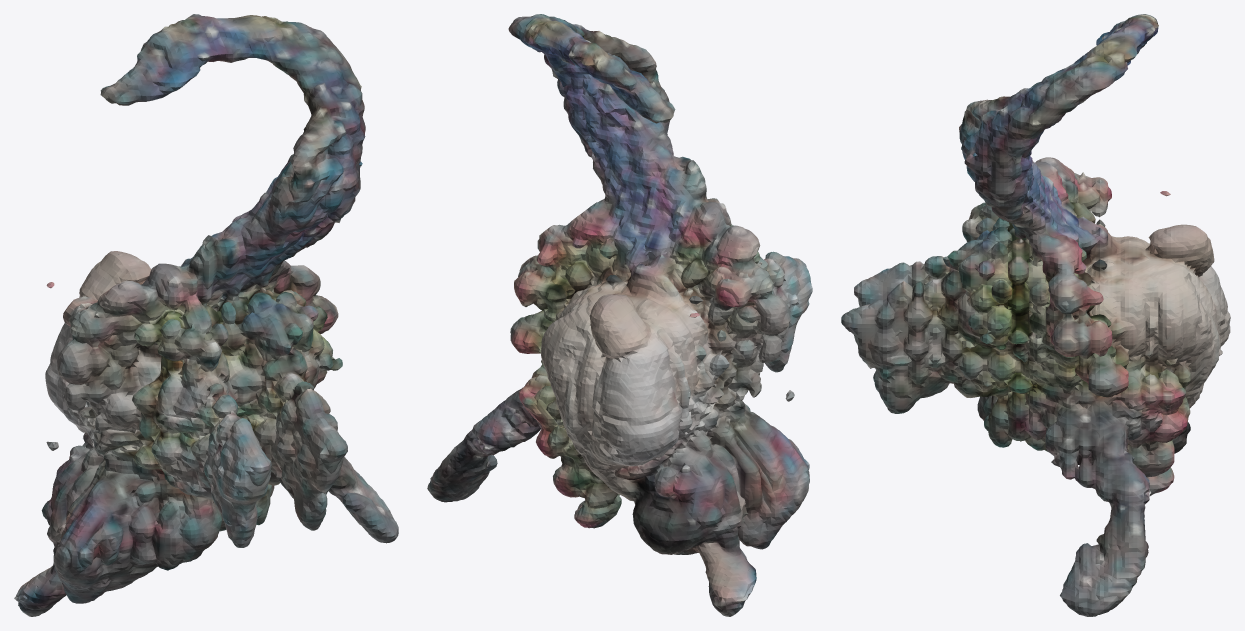
The model's file is chimera.glb.
The picture shows the model from 3 angles, left to right: view 1: azimuth 30°, elevation 25°; view 2: azimuth 150°, elevation 25°; view 3: azimuth 270°, elevation 25°; orthographic projection. The views are drawn at different scales.
Visible parts, largest first — view 1: world; view 2: world; view 3: world.
Boxes of the visible parts, left/top/right/bottom form: world: left=14, top=14, right=398, bottom=616; world: left=427, top=14, right=812, bottom=616; world: left=841, top=14, right=1230, bottom=616.
Bounding box in the file's own units: 0.6543 × 0.9685 × 0.6364.
